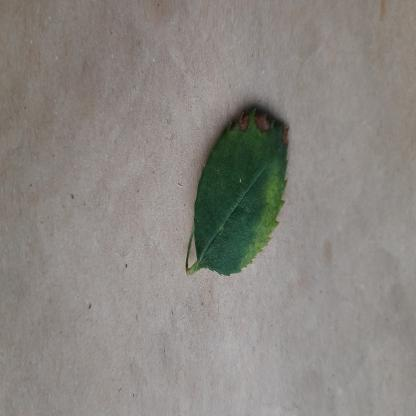downy-mildew: (192, 104, 292, 276)
